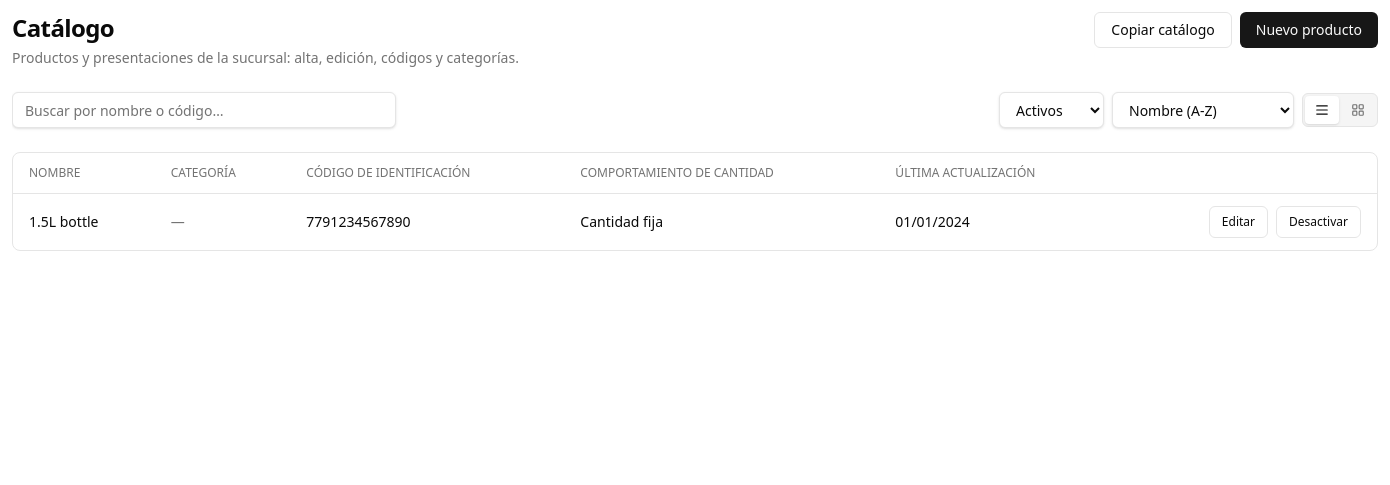
Test: CatalogScreen — copy catalog to another branch › shows a visible error when the copy is refused
Expected: the text "1.5L bottle" is shown, [29,212,98,232]
Click the button "Copiar catálogo": {"x": 1163, "y": 30} [1094,12,1232,48]
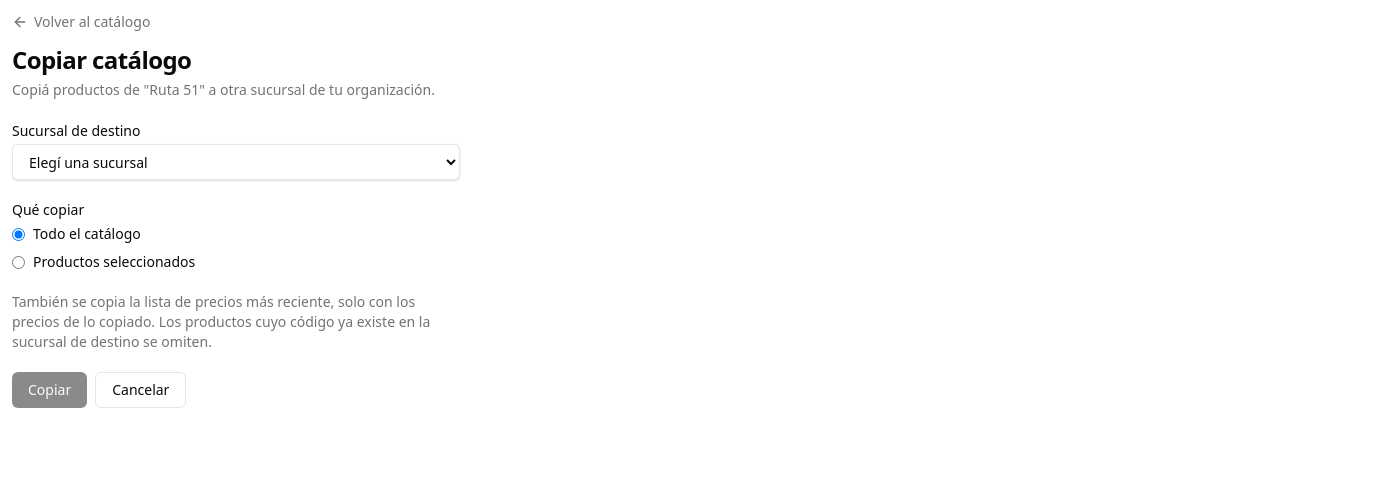
Select "Centro" in the dropdown labelled "Sucursal de destino": {"x": 236, "y": 162} [12,144,460,180]
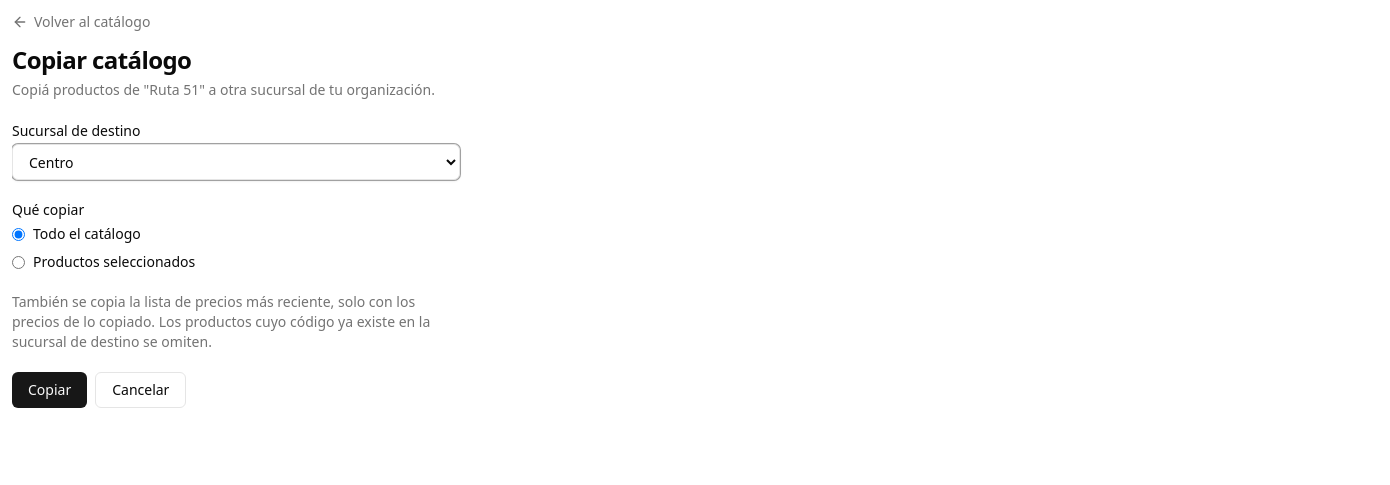
Click the button "Copiar": {"x": 50, "y": 390} [12,372,87,408]
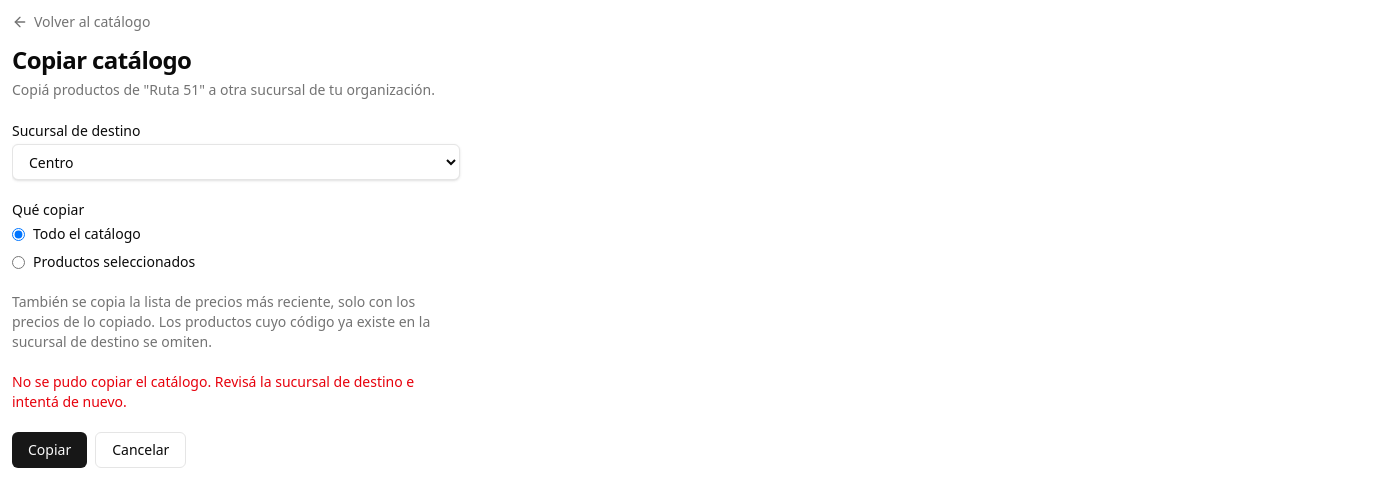
Now the message shows "No se pudo copiar", box [12,372,414,411]
